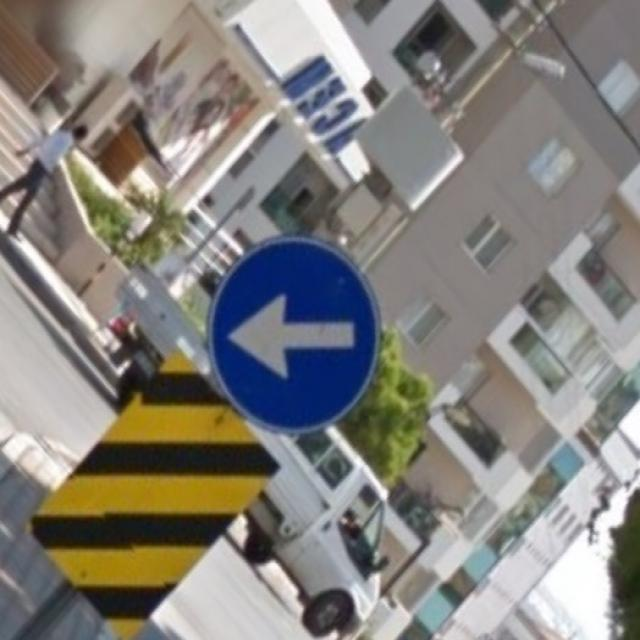Turn Left: (217, 251, 387, 416)
